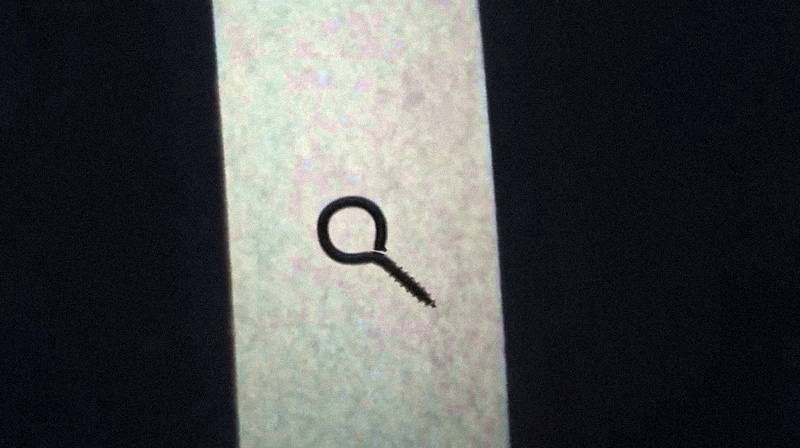O001: (311, 192, 445, 308)
